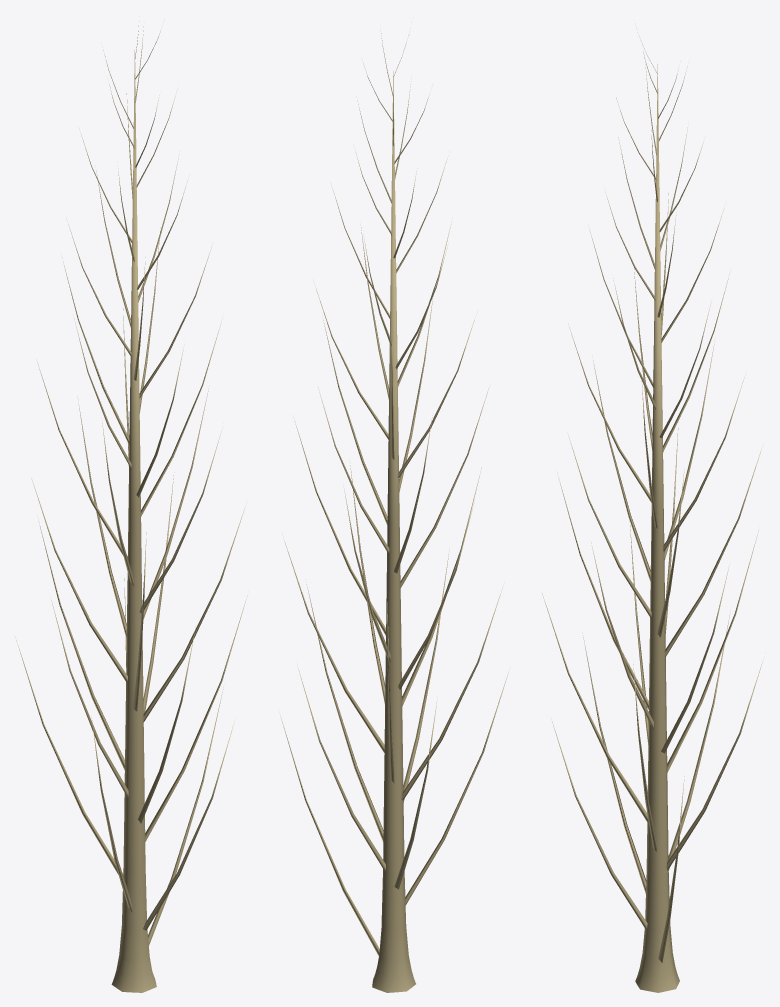
The model's file is real-tree-trunk.glb.
The picture shows the model from 3 angles, left to right: view 1: azimuth 30°, elevation 25°; view 2: azimuth 150°, elevation 25°; view 3: azimuth 270°, elevation 25°; orthographic projection.
Visible parts, largest first — view 1: trunk; view 2: trunk; view 3: trunk.
Boxes of the visible parts, x1=… form: trunk: x1=16, y1=21, x2=247, y2=992; trunk: x1=281, y1=33, x2=508, y2=992; trunk: x1=542, y1=36, x2=763, y2=992.
Bounding box in the file's own units: 5.53 × 25.5 × 5.41.
